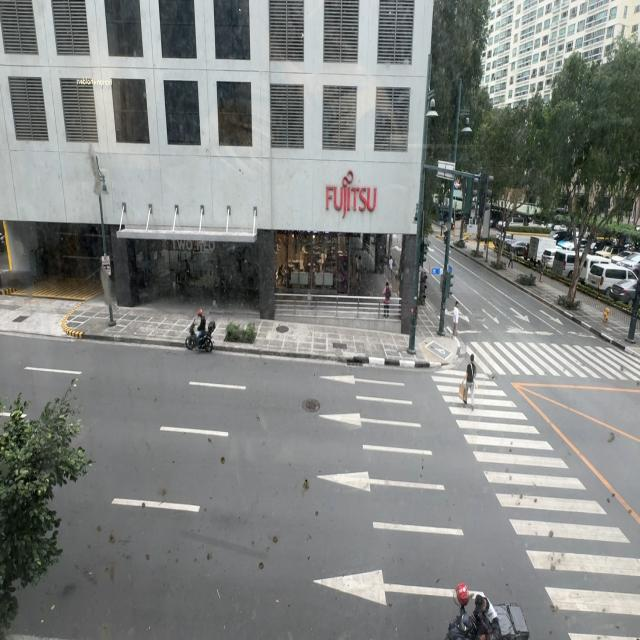crossing: (464, 351, 476, 408)
pedestrain: (382, 282, 392, 319), (356, 256, 362, 283), (388, 255, 394, 281), (508, 244, 514, 268)
waiting: (452, 301, 462, 340)
